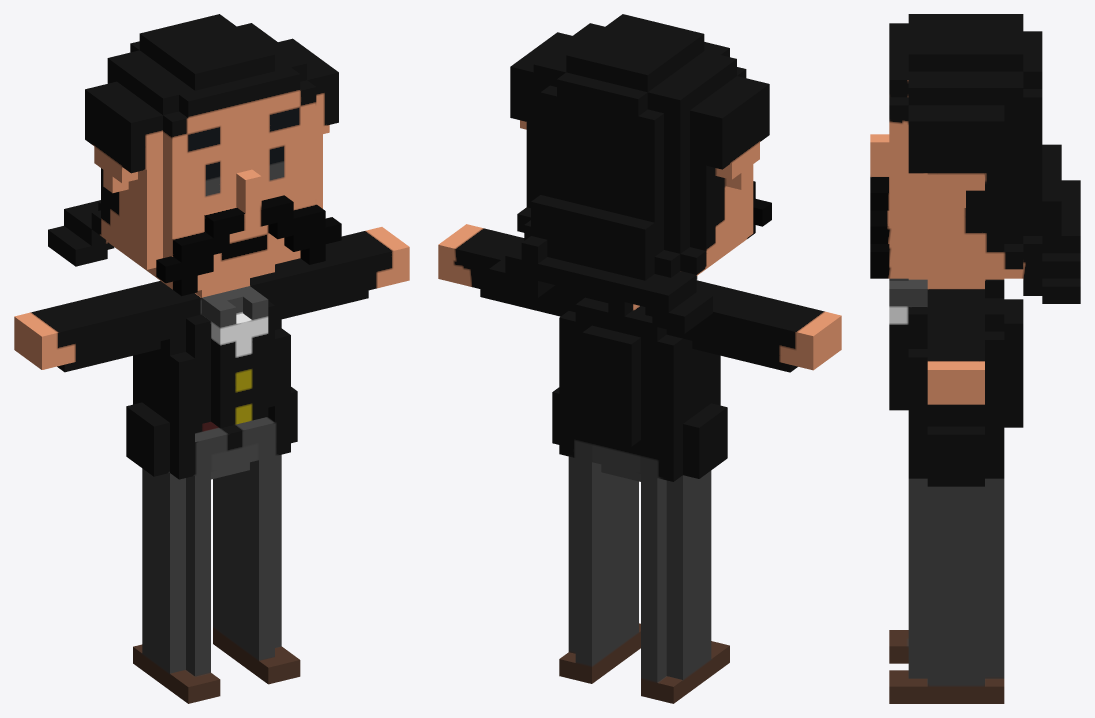
File: okubotoshimichi.glb
3 views of the same model, side by side, from view 1: azimuth 30°, elevation 25°; view 2: azimuth 150°, elevation 25°; view 3: azimuth 270°, elevation 25° (orthographic). The views are drawn at different scales.
Parts seen in each view (by area): view 1: okubotoshimichi; view 2: okubotoshimichi; view 3: okubotoshimichi.
Part boxes in pixels (left/top/right/bottom): okubotoshimichi: left=14, top=14, right=409, bottom=703; okubotoshimichi: left=438, top=14, right=841, bottom=703; okubotoshimichi: left=870, top=14, right=1080, bottom=703.
Size of the model in its own units: 0.46 by 0.74 by 0.22.
Materials: 1 (1 with a texture image).
